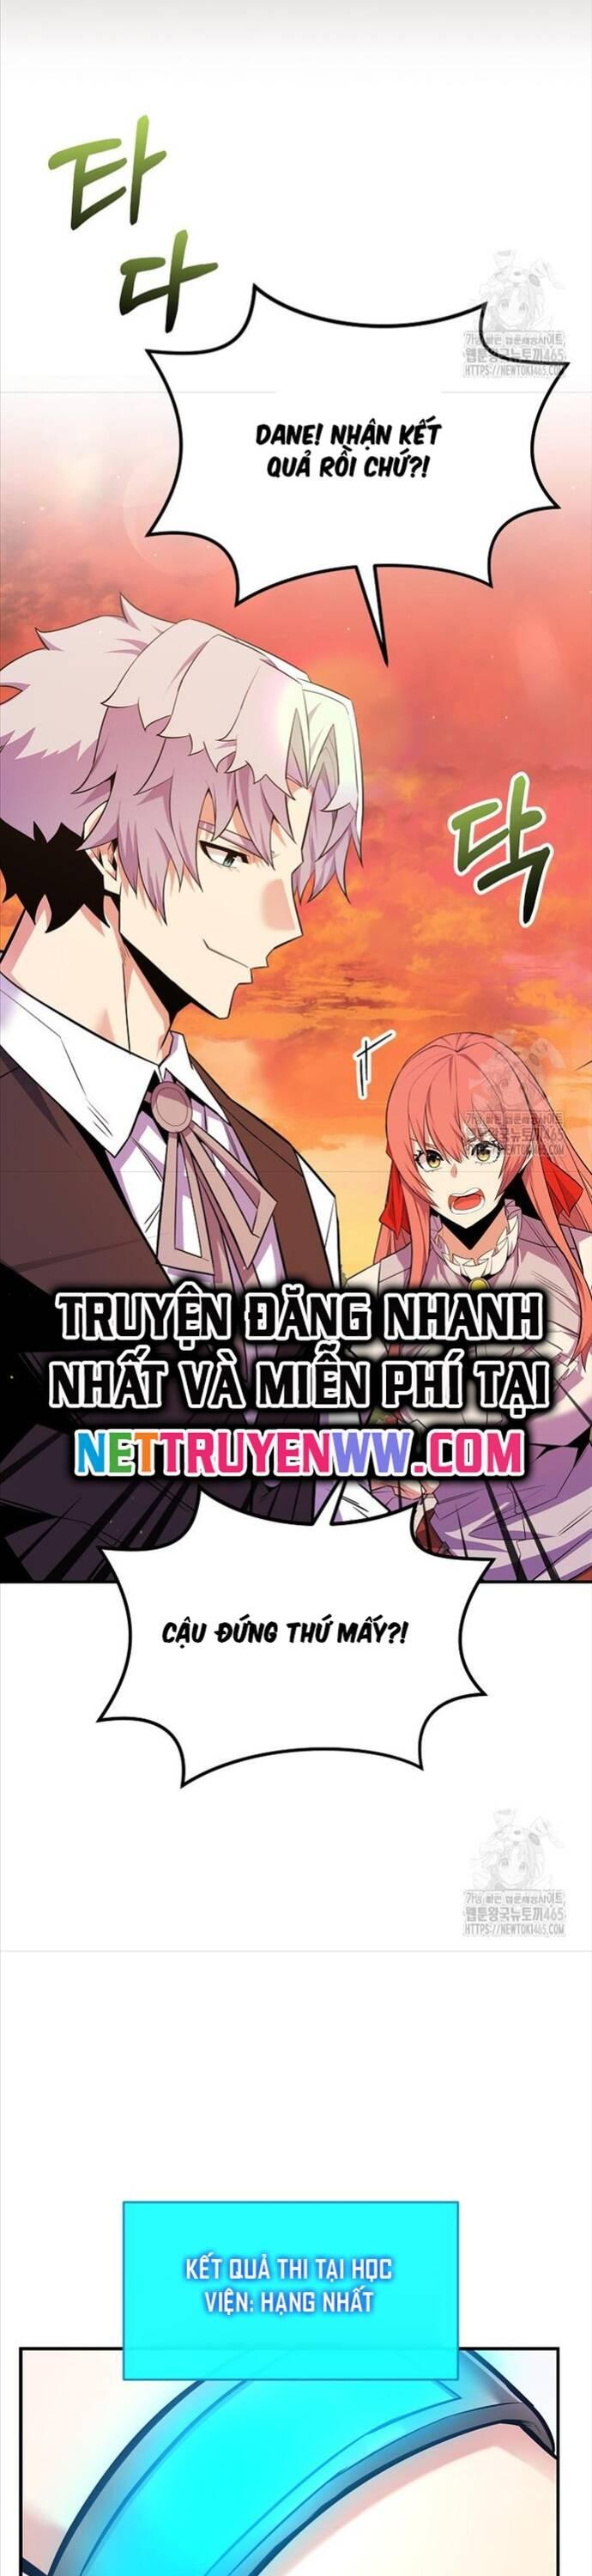quangcao: (43, 1267, 562, 1493)
